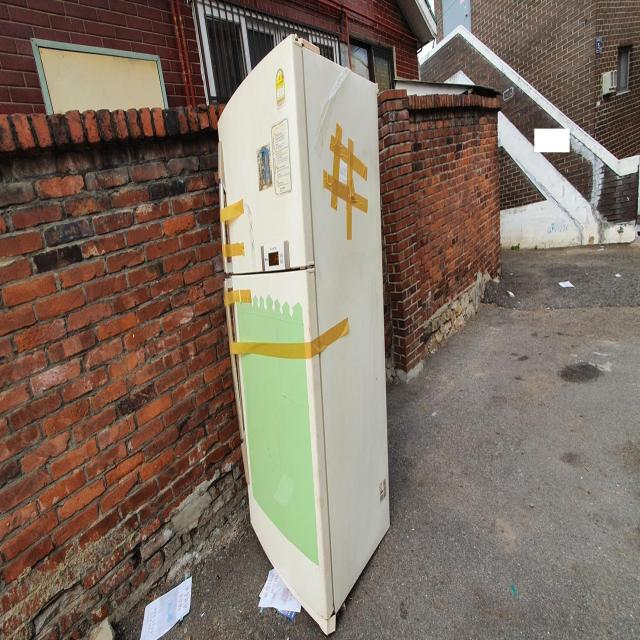refrigerator: (216, 33, 391, 638)
